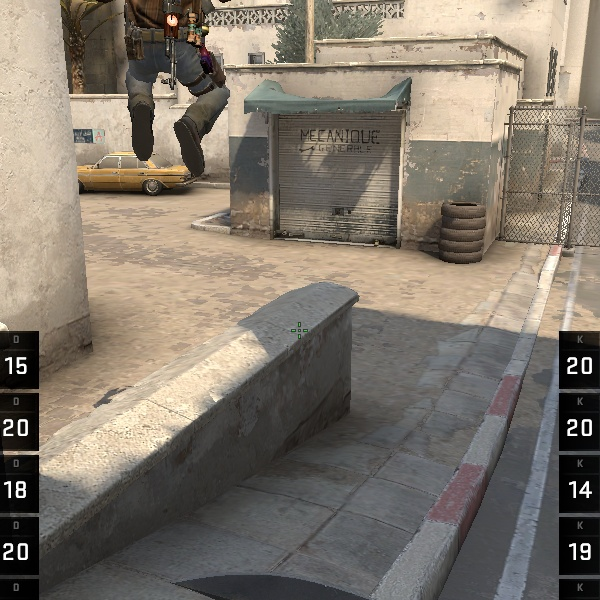t_body: (148, 4, 246, 190)
